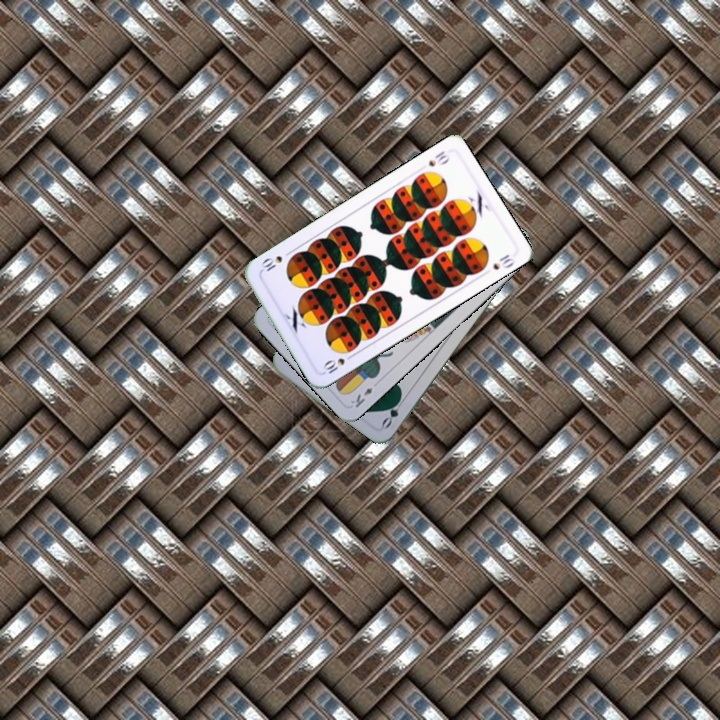EK: (346, 383, 375, 411)
GO: (378, 392, 407, 431)
S10: (319, 346, 357, 376), (424, 147, 453, 169)
